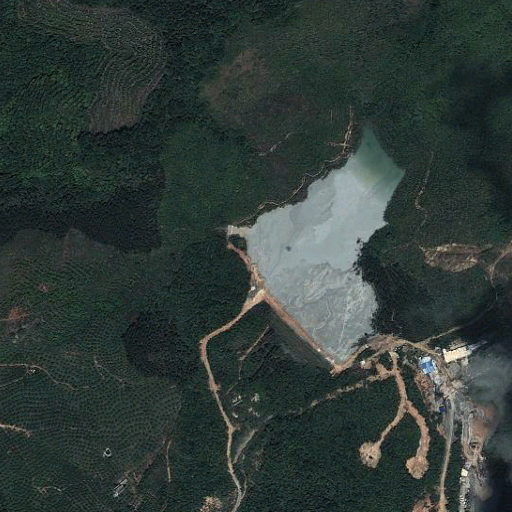tp: (232, 129, 408, 373)
